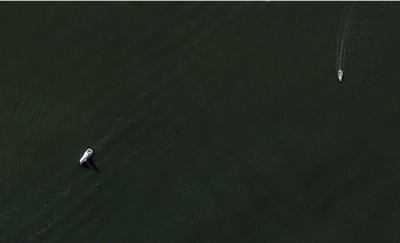boat: (79, 147, 94, 165), (338, 69, 343, 81)
